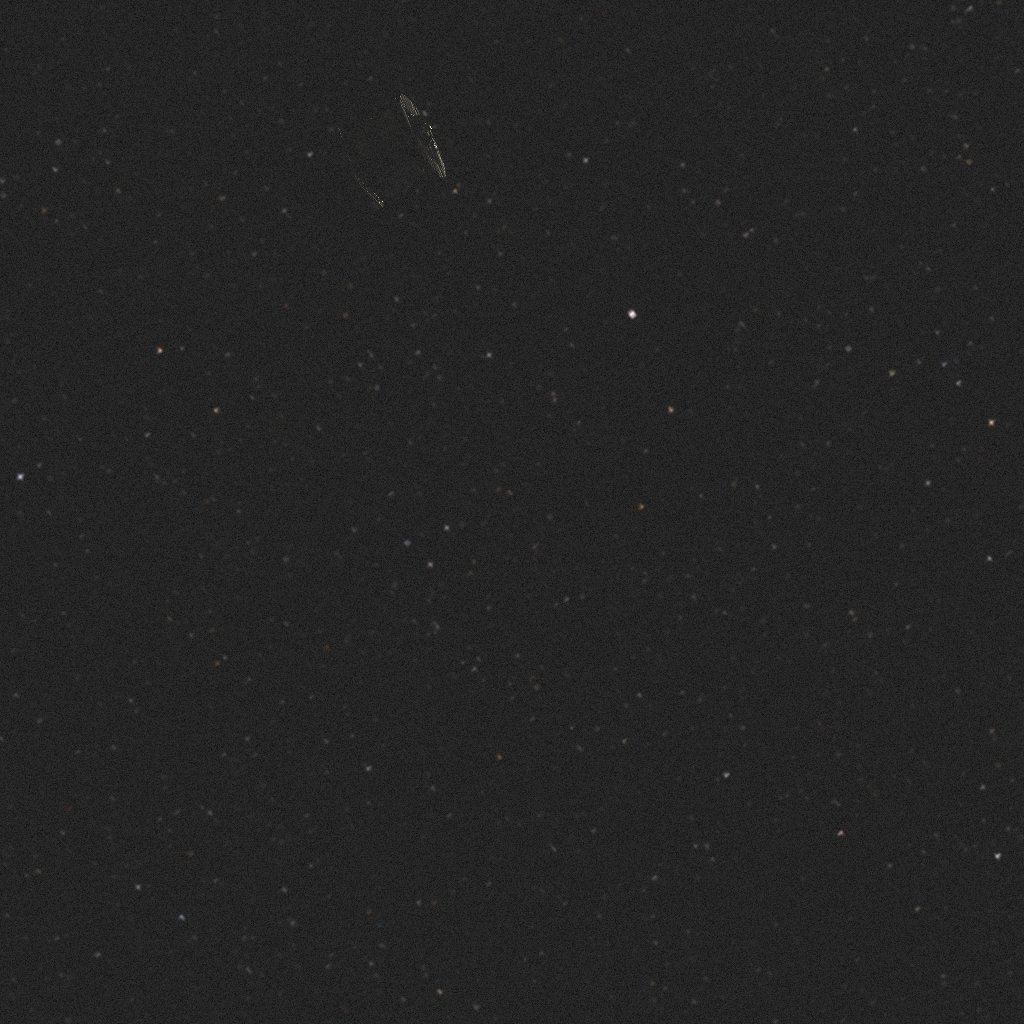proba_3_ocs: (336, 93, 447, 208)
